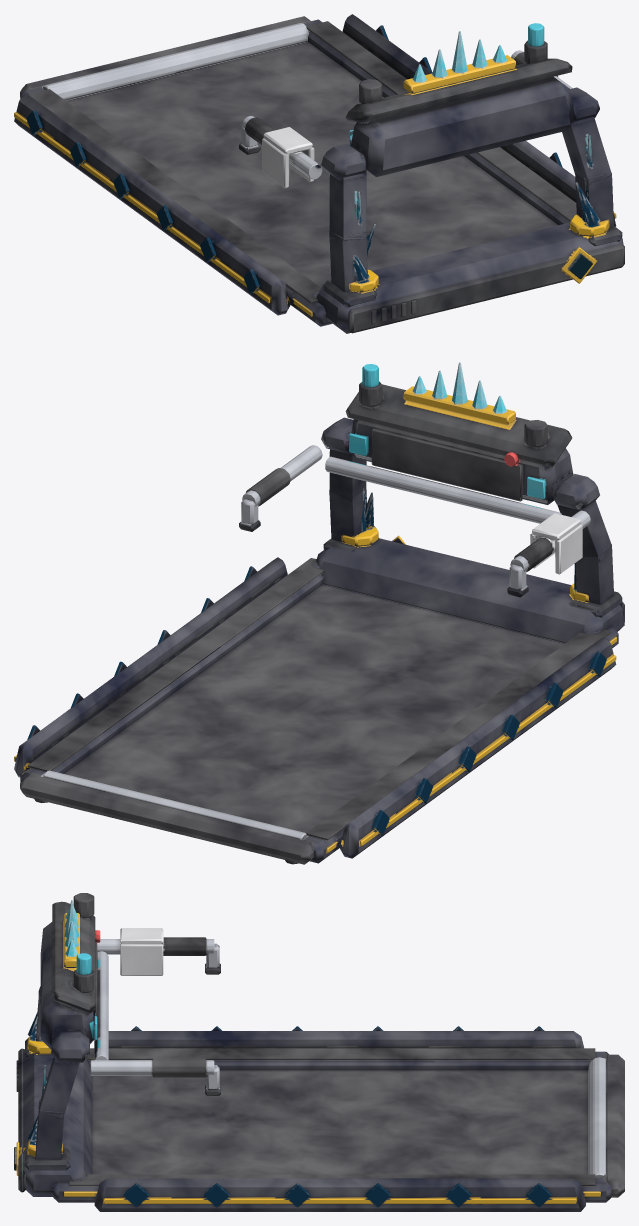
The model's file is Treadmill_Cristal_Rig.fbx.
3 renders of one model, top to bottom at view 1: azimuth 30°, elevation 25°; view 2: azimuth 150°, elevation 25°; view 3: azimuth 270°, elevation 25°, orthographic. The views are drawn at different scales.
Parts seen in each view (by area): view 1: Frame, Console, Decor; view 2: Frame, Console, Decor; view 3: Frame, Decor, Console.
Boxes of the visible parts, bbox=[...] form: Frame: bbox=[20, 16, 624, 333]; Console: bbox=[239, 23, 622, 307]; Decor: bbox=[14, 14, 616, 315]; Frame: bbox=[20, 535, 624, 864]; Console: bbox=[239, 364, 622, 617]; Decor: bbox=[14, 362, 616, 858]; Frame: bbox=[14, 1048, 624, 1202]; Decor: bbox=[27, 900, 585, 1211]; Console: bbox=[25, 893, 220, 1171].
Bounding box in the file's own units: 8.65 × 6 × 14.08.
Materials: 1 (1 with a texture image).
